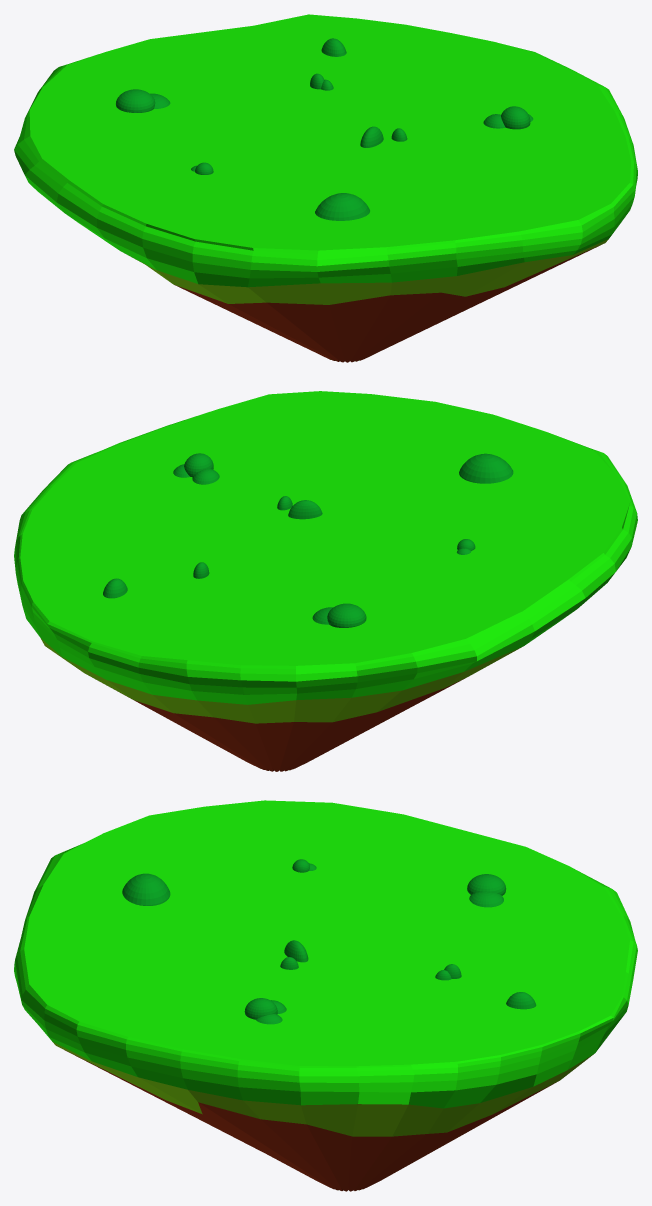
File: platform_to_slystroyer.glb
The picture shows the model from 3 angles, top to bottom: view 1: azimuth 30°, elevation 25°; view 2: azimuth 150°, elevation 25°; view 3: azimuth 270°, elevation 25°; orthographic projection. The views are drawn at different scales.
Parts seen in each view (by area): view 1: Cone; view 2: Cone; view 3: Cone.
Part boxes in pixels (x1,y1,x2,y2): Cone: [14, 14, 637, 362]; Cone: [14, 391, 637, 771]; Cone: [14, 800, 637, 1191].
Size of the model in its own units: 31.18 by 14.63 by 31.87.
